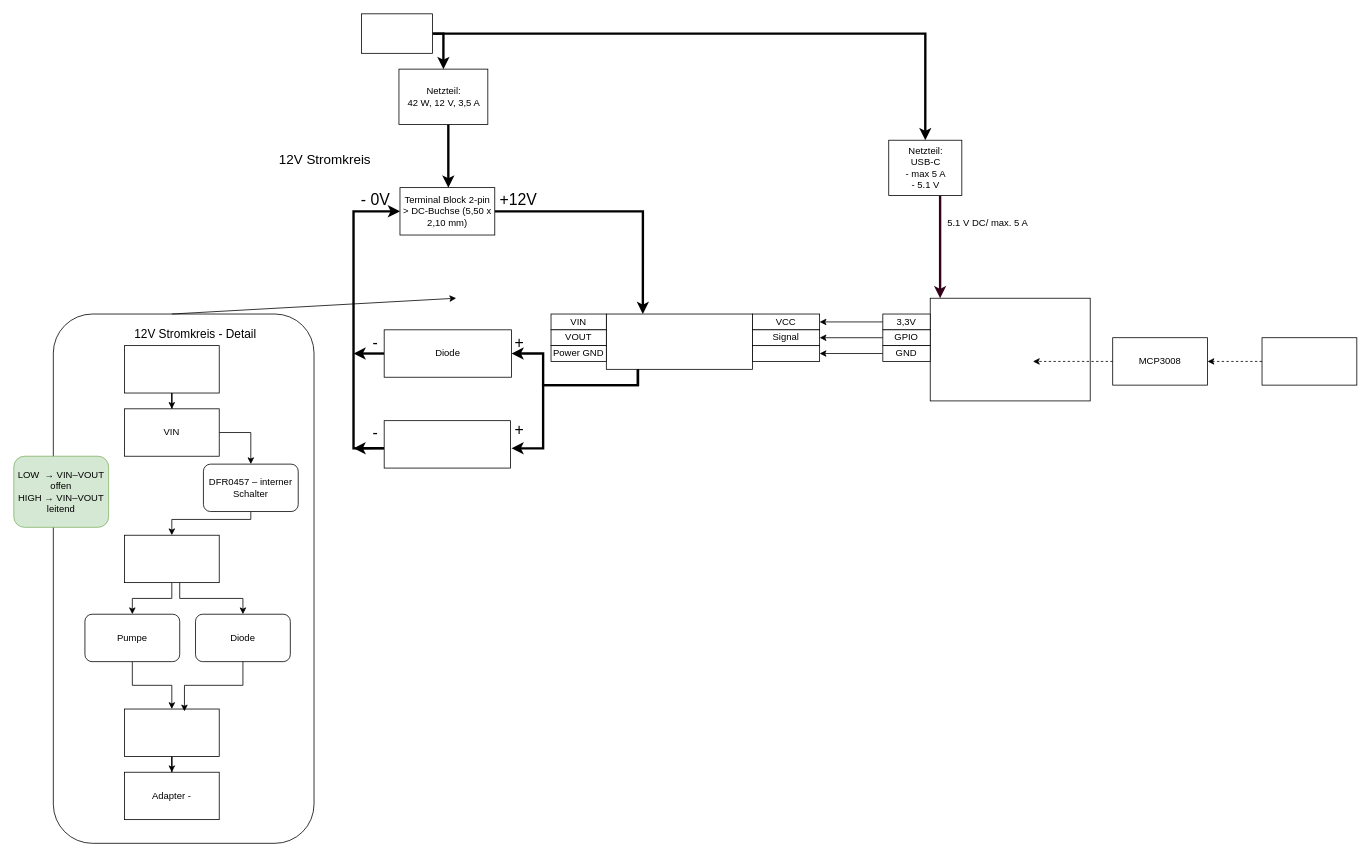
This 1371x857 diagram has some shape labels left out. The shapes that lost their labels are listed below. From the top down, each one's box as (x1, y1, x2, y2) in pixels, then its label:
(361, 13, 433, 53): Stromnetz 230V
(606, 313, 752, 369): DFR0457 MOSFET Power Controller
(752, 345, 820, 361): Control GND
(929, 297, 1090, 401): Raspberry Pi 5
(1261, 337, 1357, 385): Sensor Feuchtigkeit
(124, 345, 219, 393): Adapter +
(383, 420, 511, 468): Peristaltikpumpe
(124, 534, 219, 583): VOUT +
(124, 708, 219, 756): Power GND -
